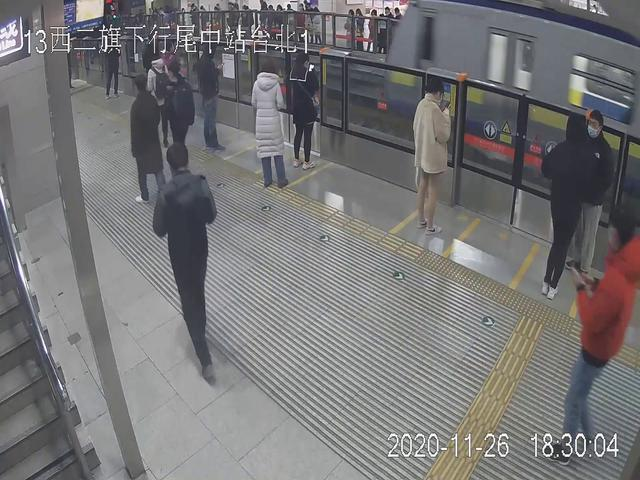person: (559, 208, 640, 460), (152, 141, 218, 390), (569, 99, 613, 292), (542, 107, 584, 300), (412, 75, 447, 234), (251, 58, 289, 192), (129, 72, 163, 206), (290, 45, 323, 166), (161, 60, 193, 176), (193, 37, 224, 151)
